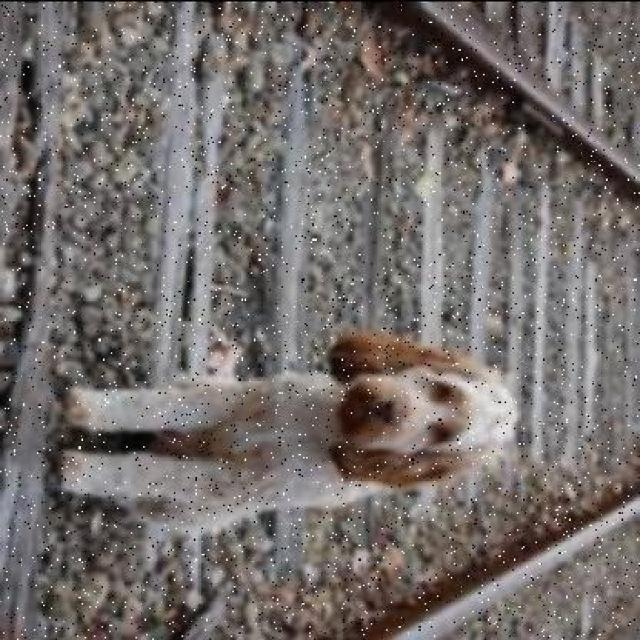rail: (1, 4, 640, 639)
